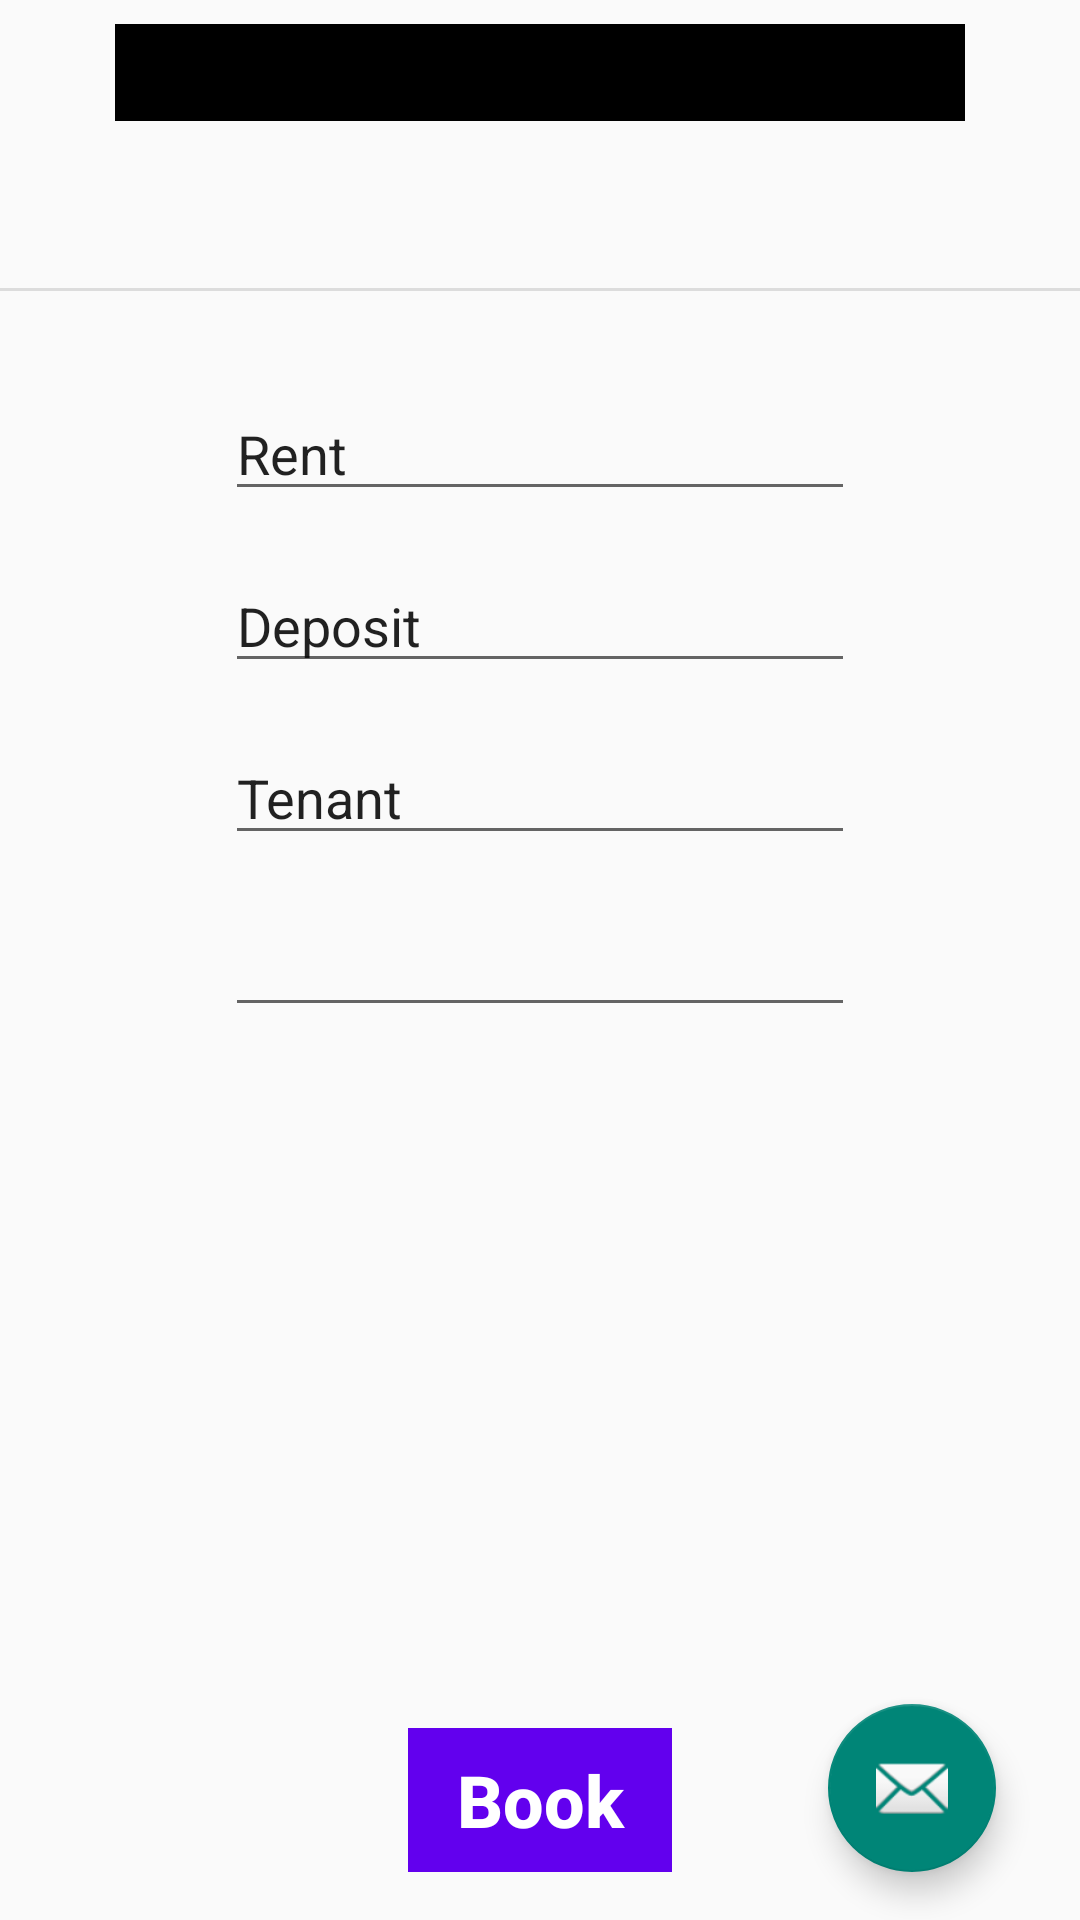

Icon click points for this 1080px×1920px phone screenshot, format (x,y):
email: (912,1788)
